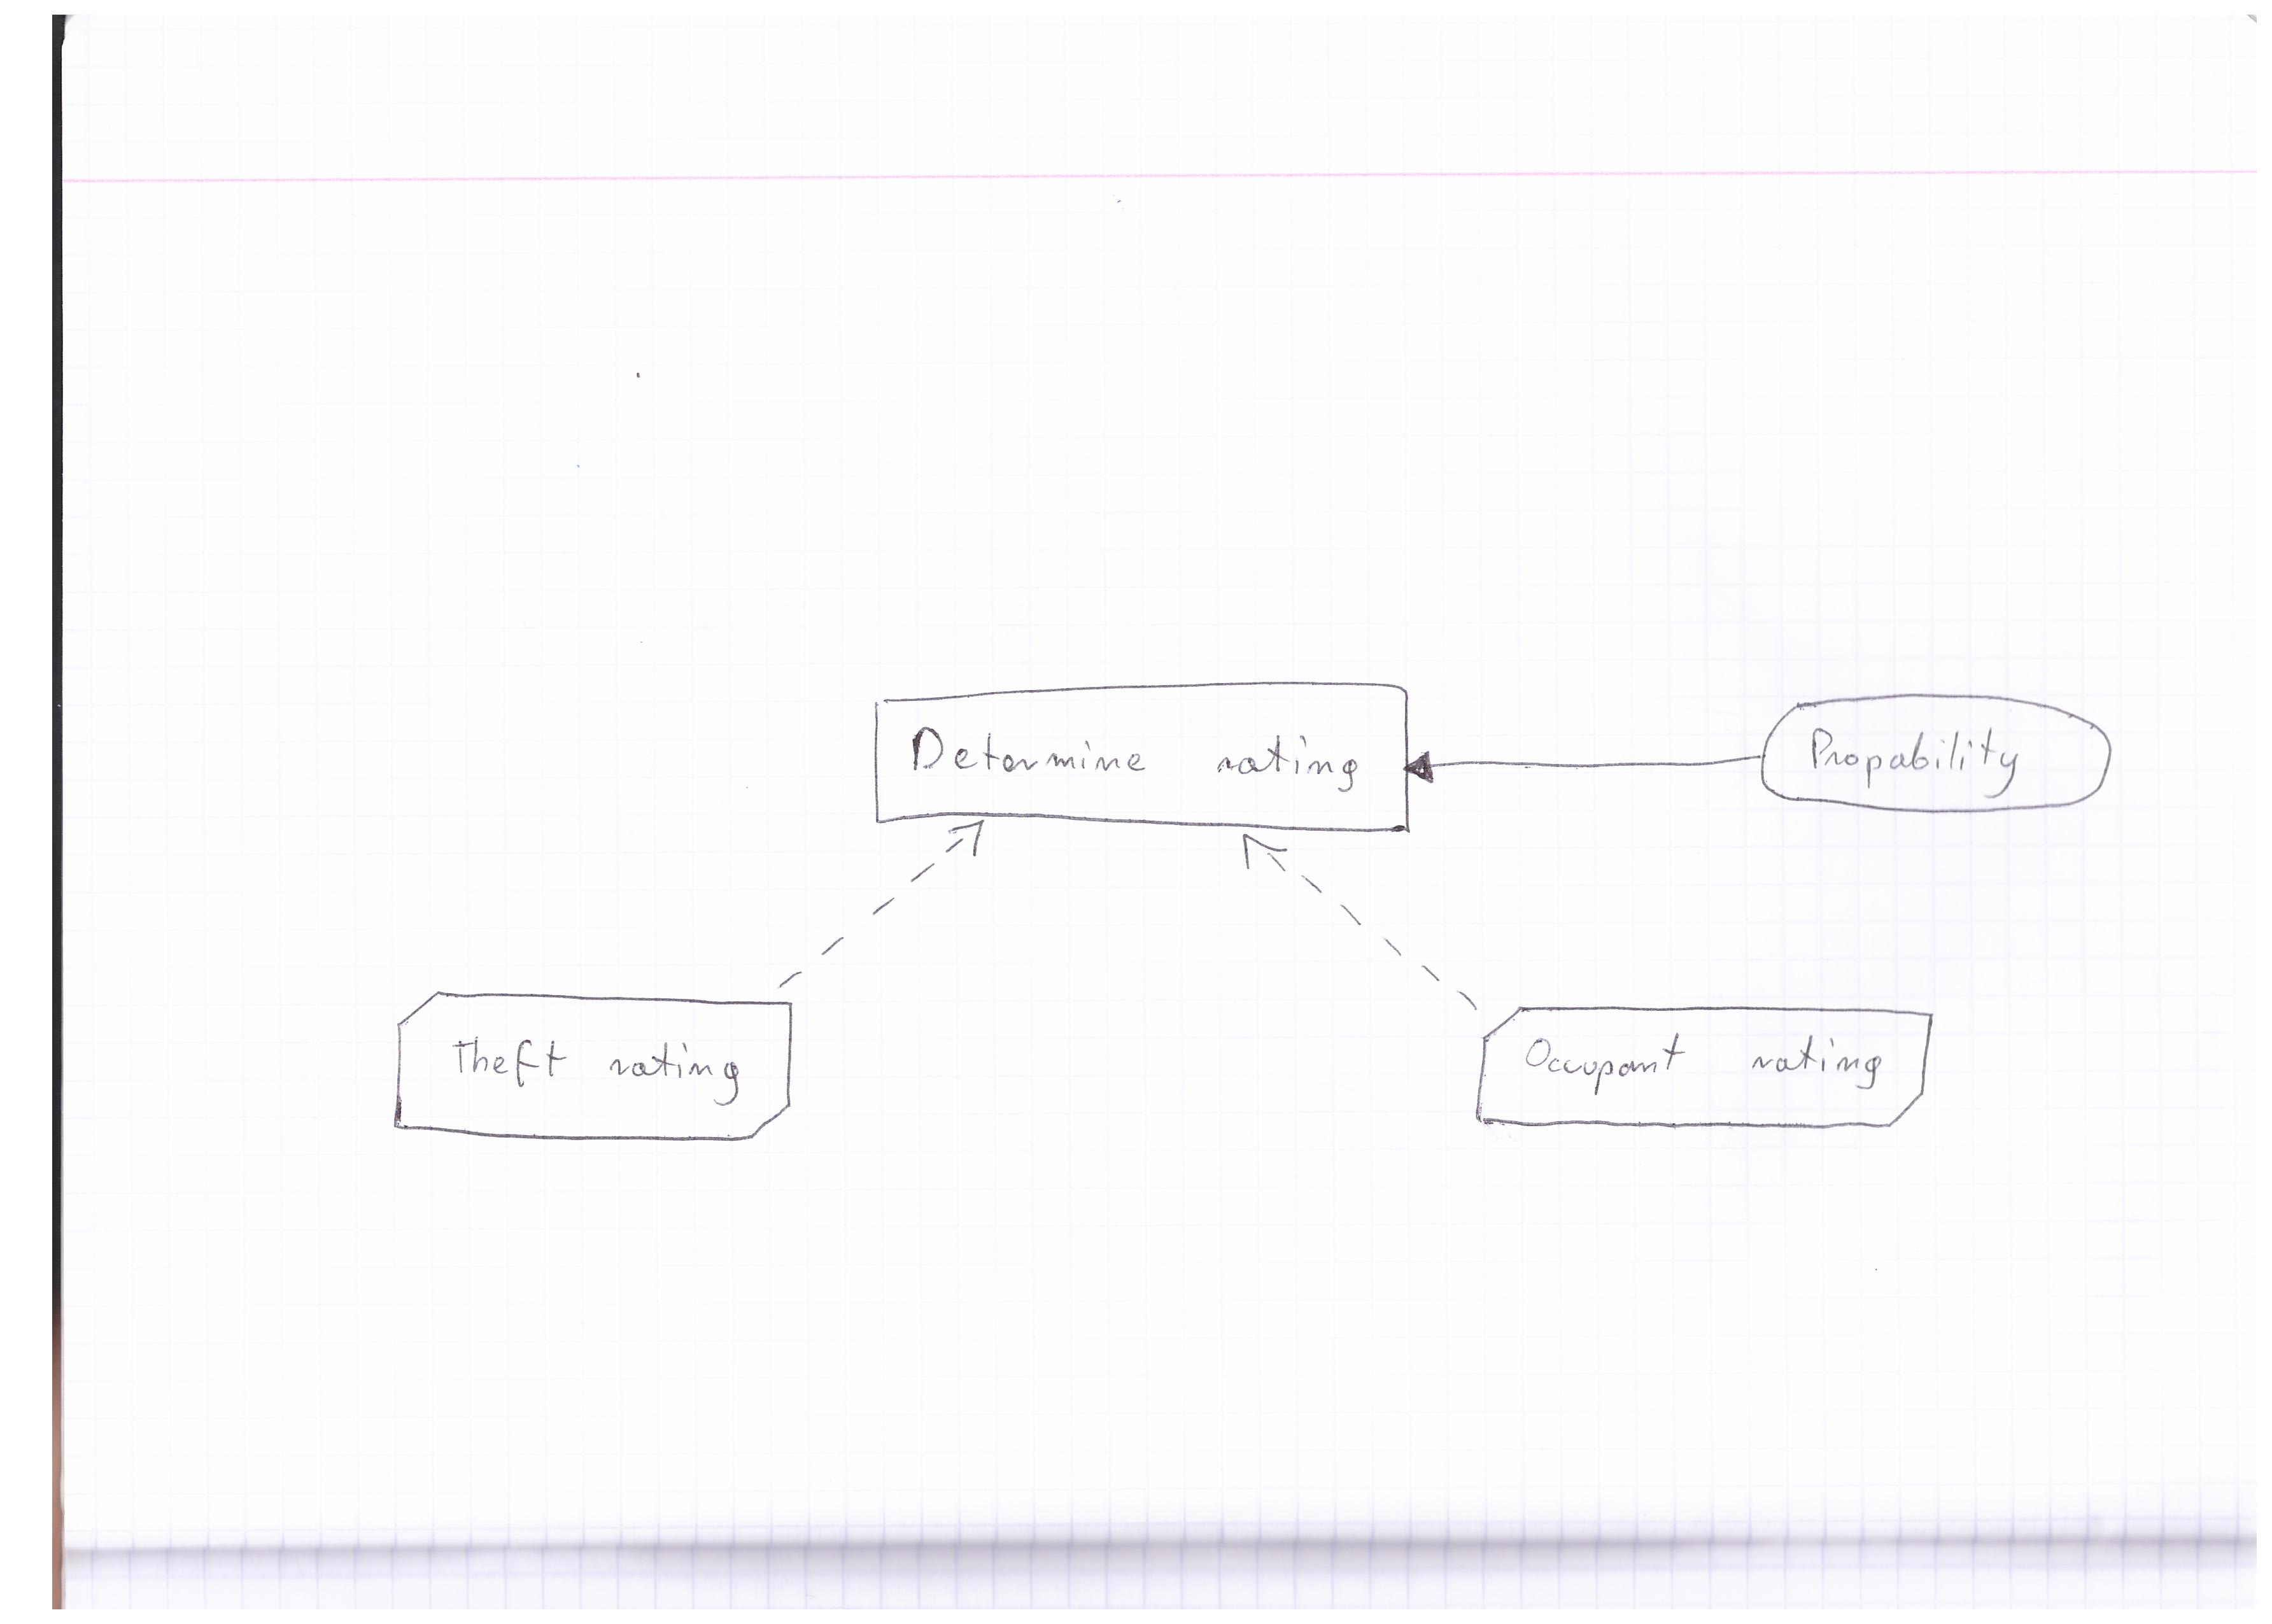arrow_information_requirement: (1397, 740, 1773, 793)
arrow_knowledge_requirement: (1211, 833, 1488, 1019), (757, 816, 996, 995), (896, 717, 1372, 805), (1516, 1021, 1899, 1109), (438, 1018, 747, 1121), (1798, 717, 2040, 800)
node_decision: (863, 684, 1416, 837)
node_input_data: (1759, 687, 2119, 838)
node_knowledge_model: (1478, 990, 1952, 1153), (380, 984, 810, 1155)
